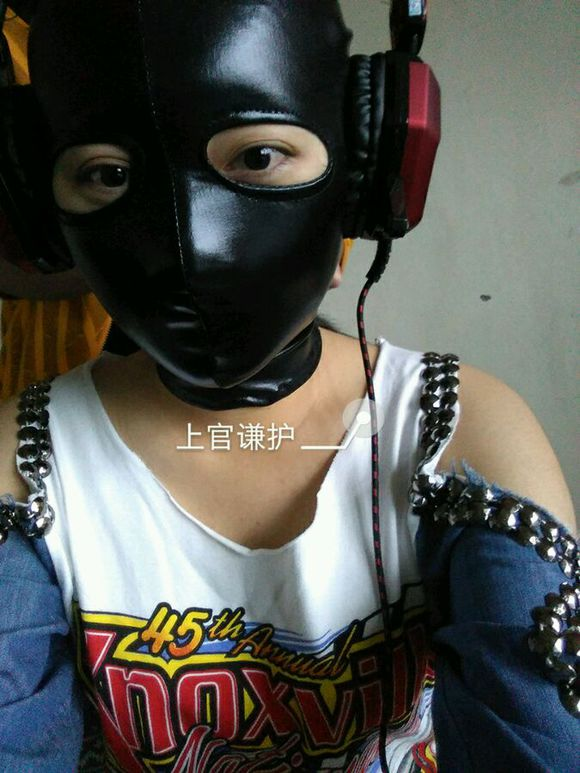face_mask: (50, 1, 332, 378)
